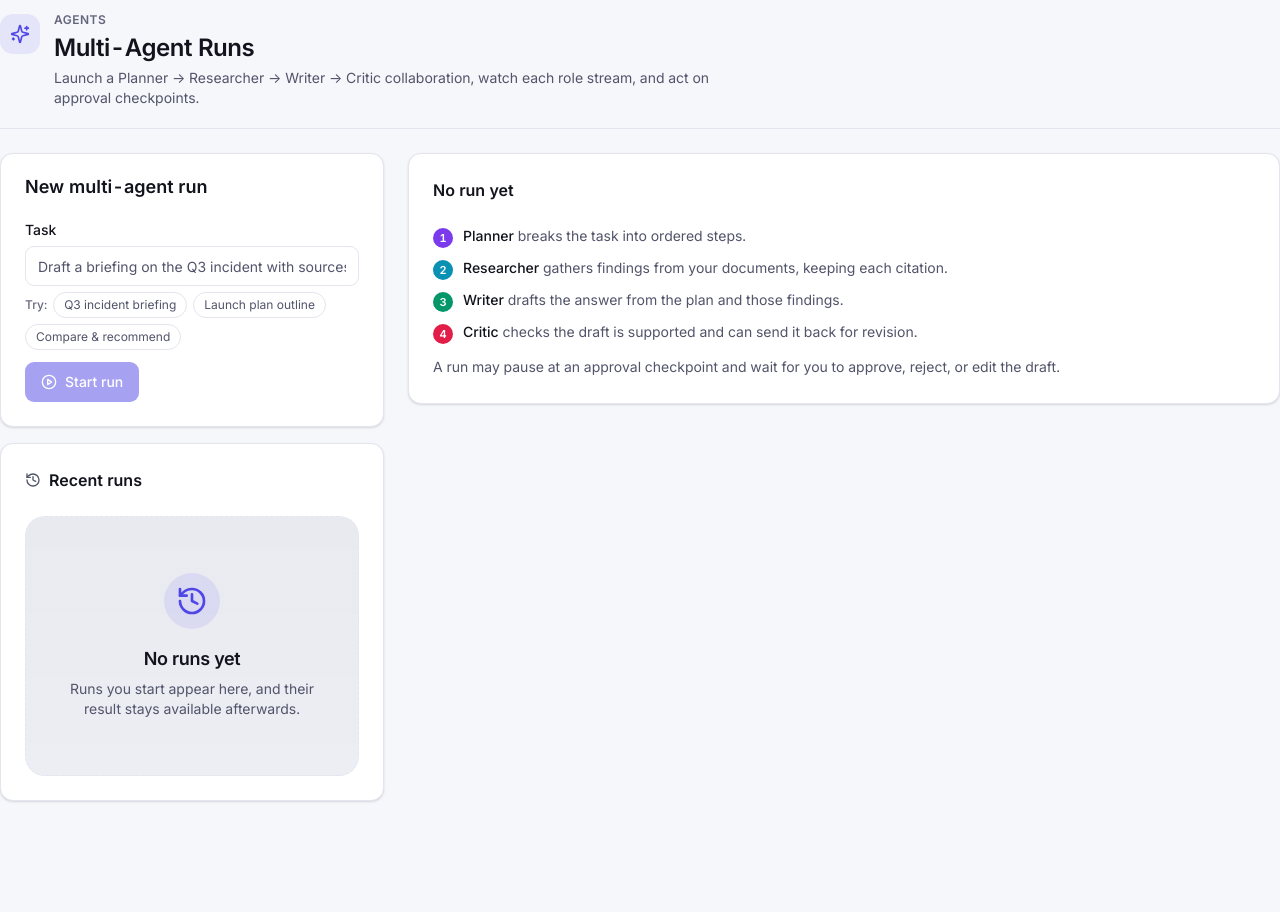
Test: MultiAgentRunView (MSW SSE) › attributes events to role_id and orders them by sequence (10.2)
Type "draft a brief" into the field with test id "multi-task" at (192, 266), box left=25, top=246, right=359, bottom=286
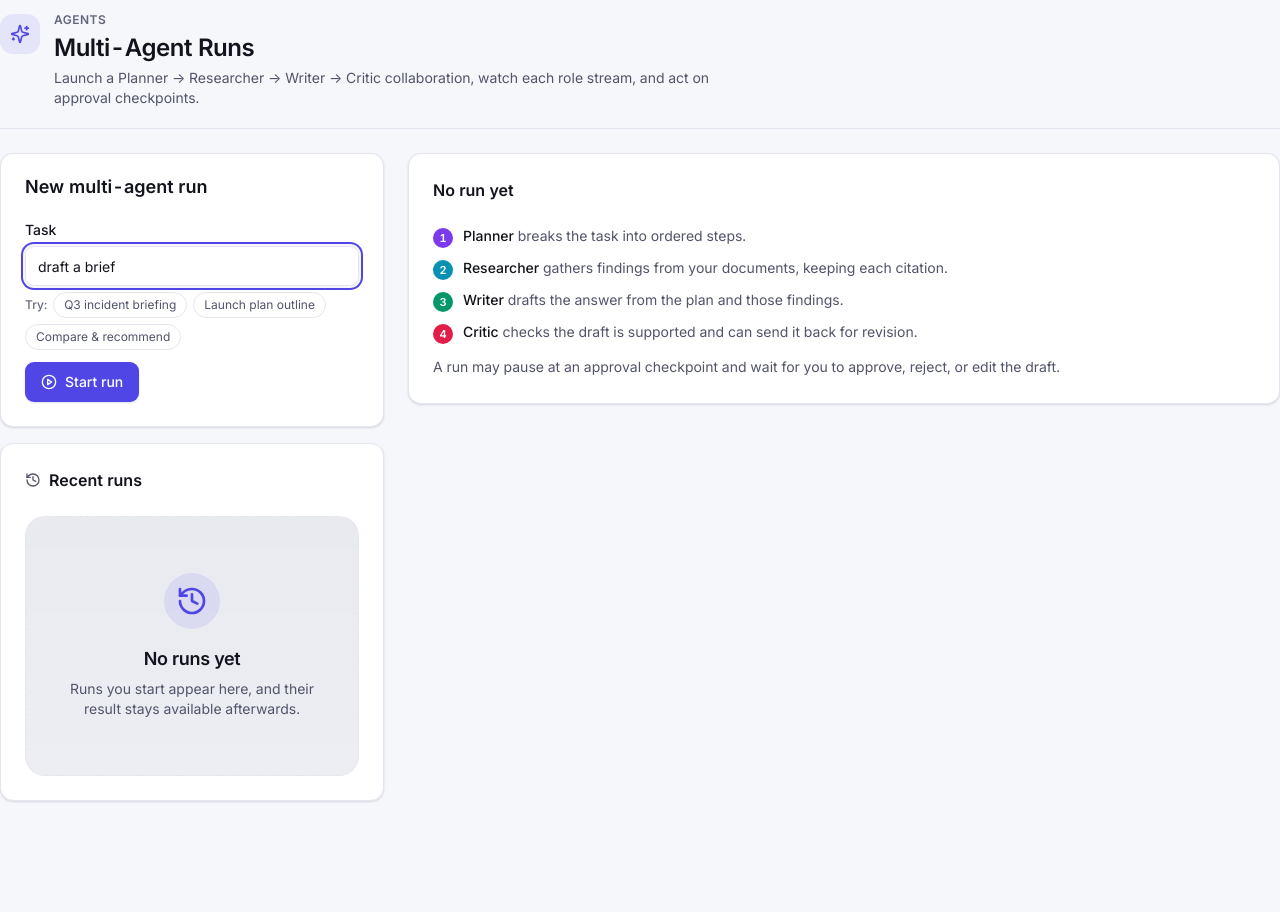
Click the button with test id "multi-start" at (82, 382), box left=25, top=362, right=139, bottom=402
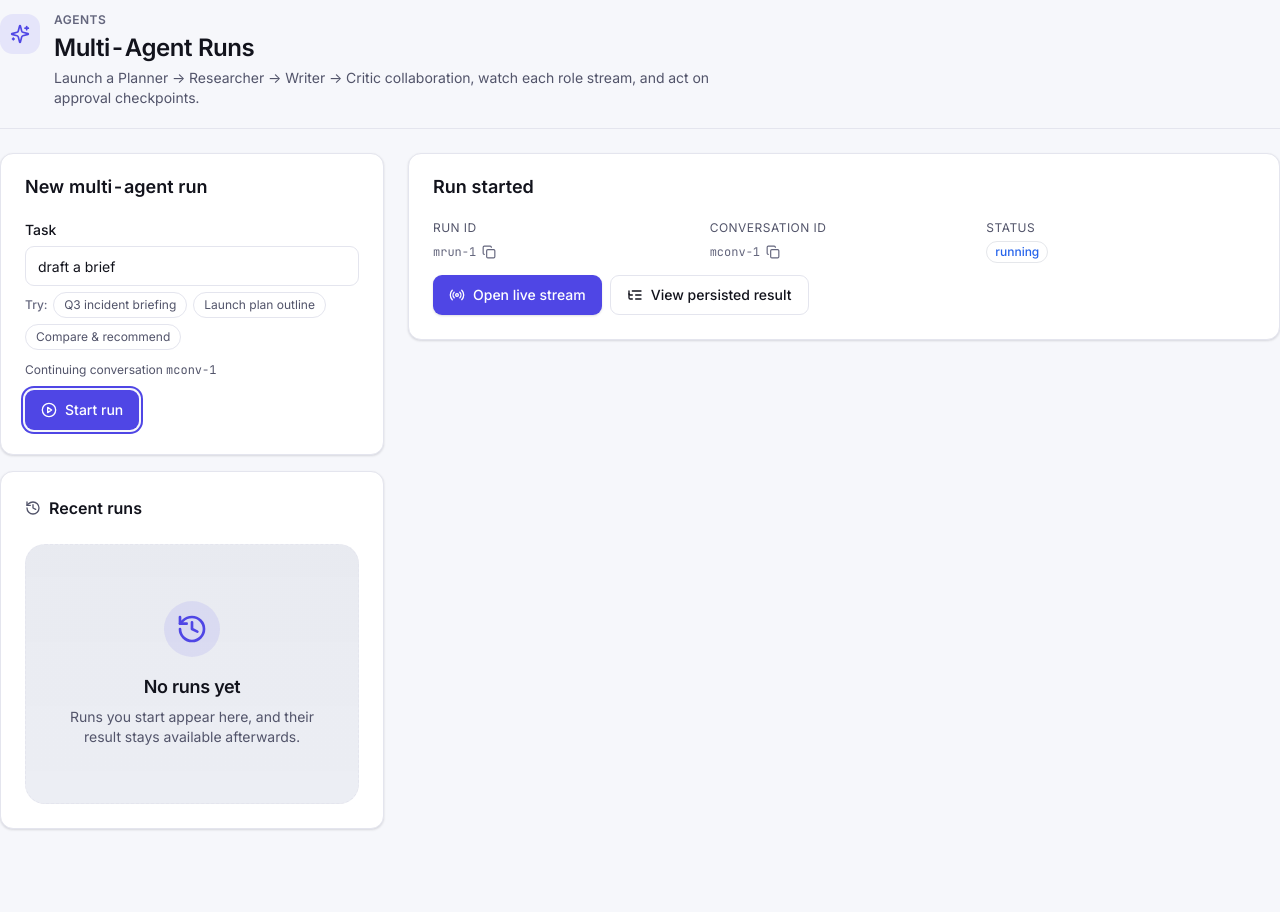
Expected: the element with test id "multi-run-summary" is shown, left=408, top=153, right=1279, bottom=340
Click the button with test id "multi-stream-open" at (517, 295), box left=433, top=275, right=602, bottom=315
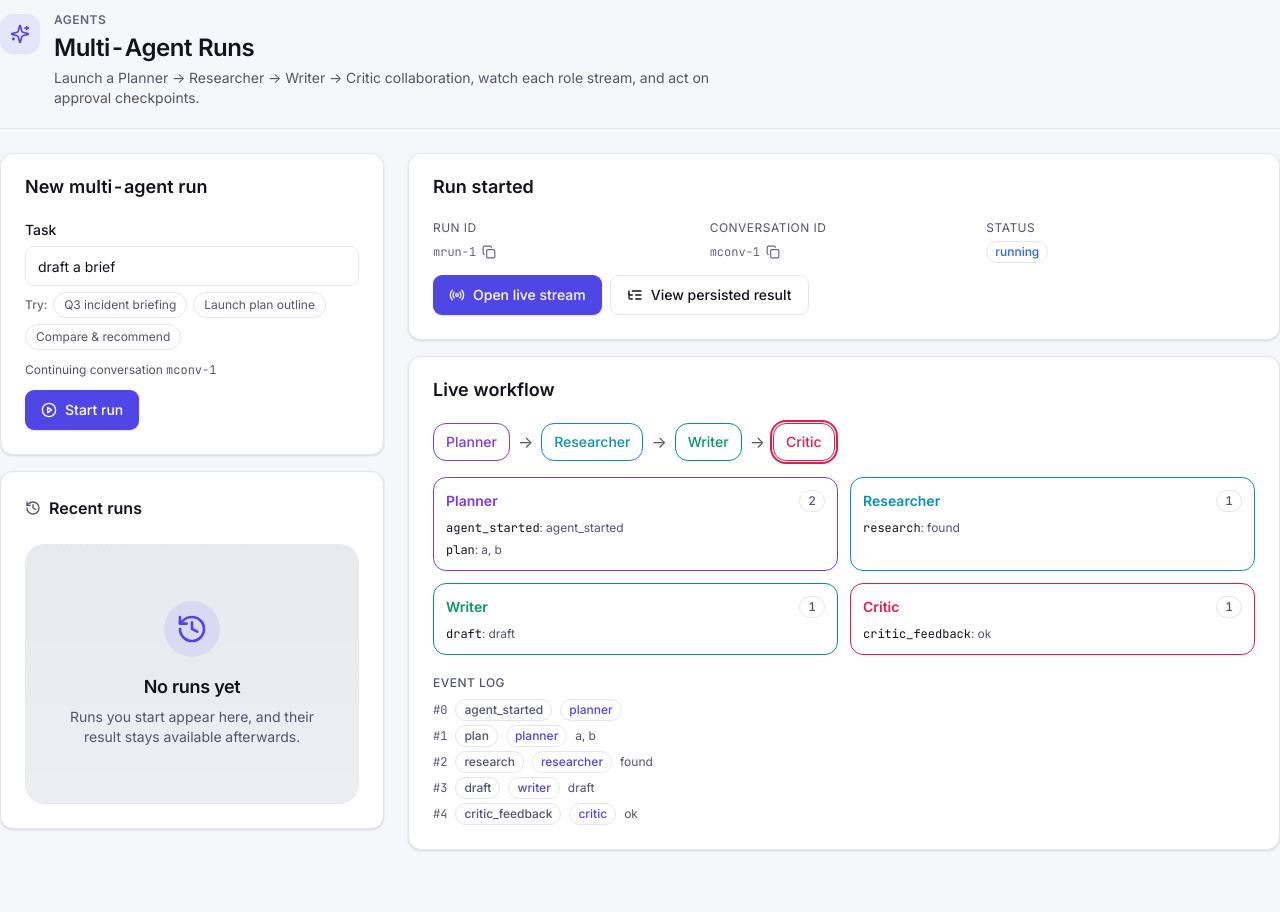
Expected: the list with test id "multi-event-log" is shown, left=433, top=699, right=653, bottom=825
Expected: the element with test id "role-pane-planner" is shown, left=433, top=477, right=838, bottom=571
Expected: the element with test id "role-pane-researcher" is shown, left=850, top=477, right=1255, bottom=571
